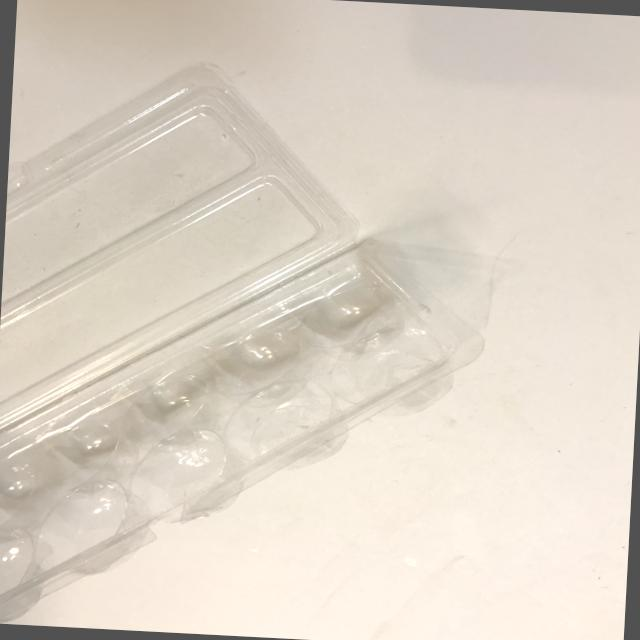Plastic: (0, 40, 544, 640)
